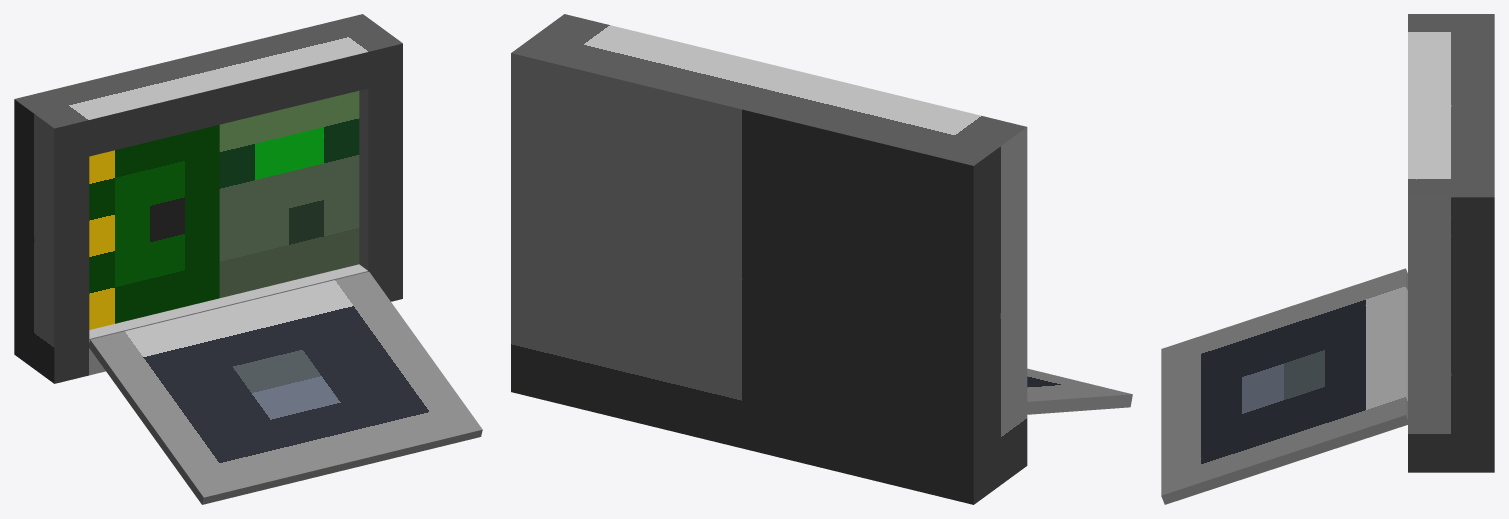
The model's file is door_button_open_board_signaler.glb.
3 views of the same model, side by side, from view 1: azimuth 30°, elevation 25°; view 2: azimuth 150°, elevation 25°; view 3: azimuth 270°, elevation 25° (orthographic). The views are drawn at different scales.
Visible parts, largest first — view 1: Continuous_Housing, Service_Cover, Signaler_Module, Board_Module; view 2: Continuous_Housing, Service_Cover; view 3: Continuous_Housing, Service_Cover.
Boxes of the visible parts, x1,y1,x2,y2 form: Continuous_Housing: [14, 14, 402, 383]; Service_Cover: [89, 272, 482, 504]; Signaler_Module: [219, 91, 359, 297]; Board_Module: [89, 125, 219, 329]; Continuous_Housing: [511, 14, 1027, 504]; Service_Cover: [1027, 368, 1132, 414]; Continuous_Housing: [1408, 14, 1494, 472]; Service_Cover: [1161, 268, 1407, 504].
Size of the model in its own units: 0.2812 by 0.2331 by 0.2162.
1 material, 1 textured.
